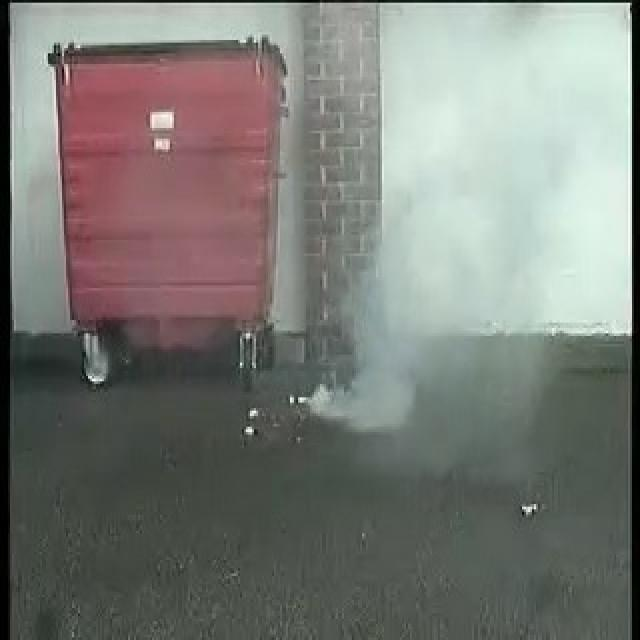smoke: (296, 264, 439, 432)
